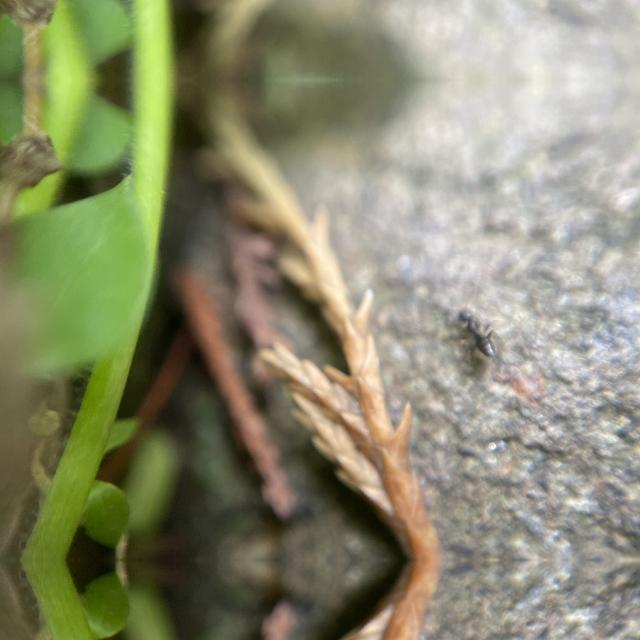Tapinoma: (444, 298, 514, 366)
